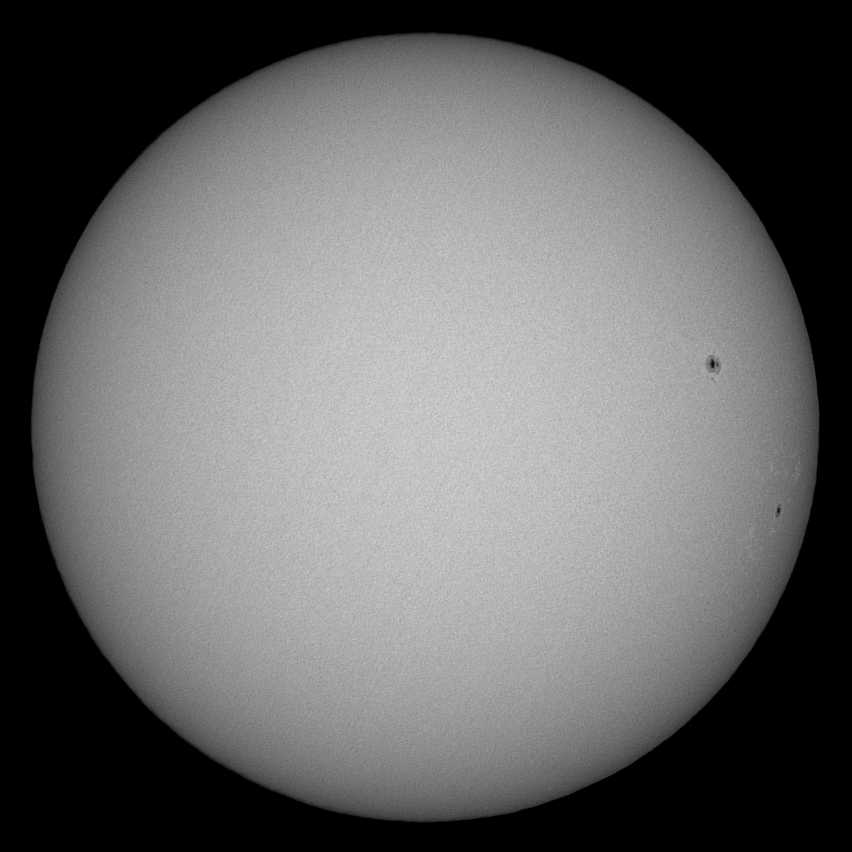sunspot: (702, 348, 725, 377), (773, 500, 786, 522)
